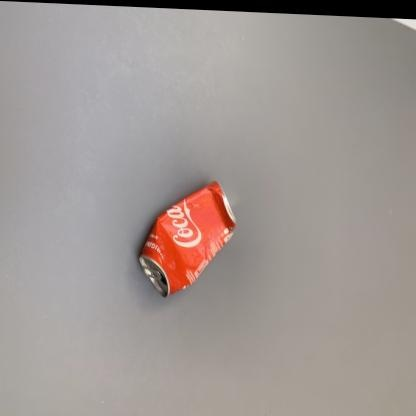trash: (139, 181, 235, 295)
